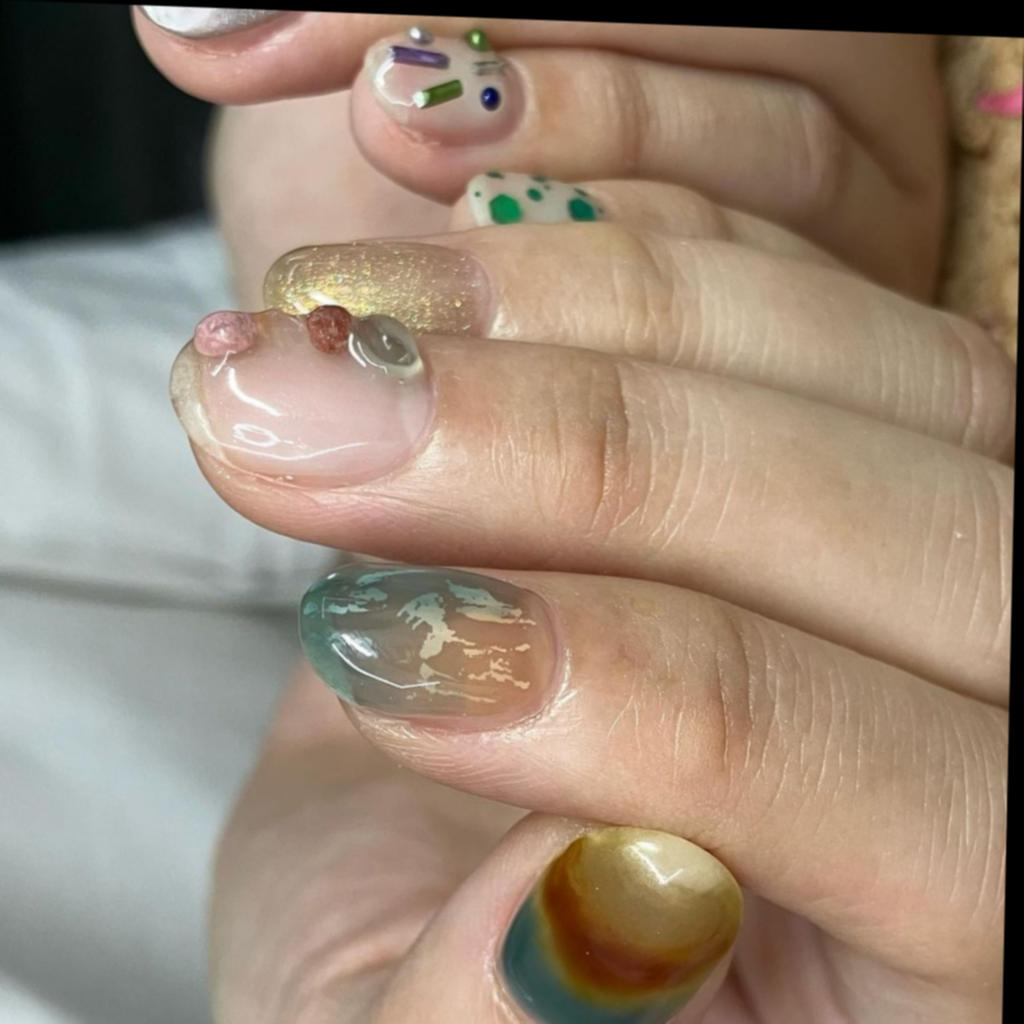nail: (164, 297, 439, 492), (489, 817, 745, 1024), (292, 557, 562, 737), (259, 234, 493, 338), (361, 21, 522, 147), (123, 5, 317, 44)
